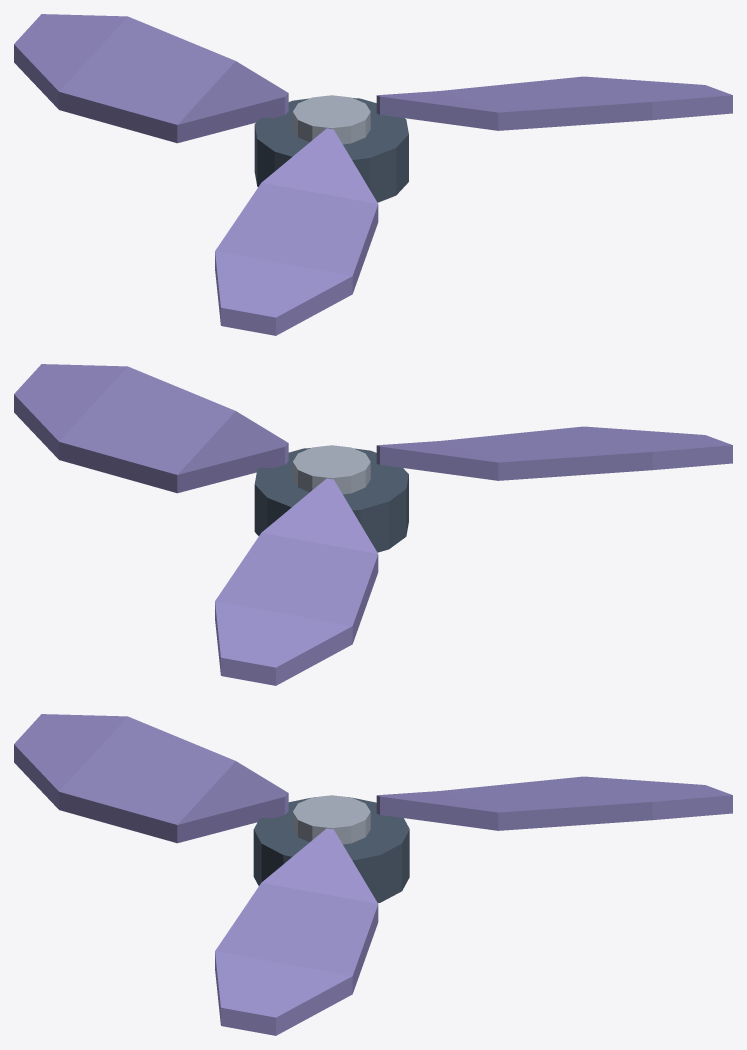
Rendered from prop-sport.glb.
3 renders of one model, top to bottom at view 1: azimuth 30°, elevation 25°; view 2: azimuth 150°, elevation 25°; view 3: azimuth 270°, elevation 25°, orthographic.
Parts seen in each view (by area): view 1: 002_pitched_aerofoil, 001_pitched_aerofoil, 000_pitched_aerofoil, 003_center_hub, 004_hub_lock; view 2: 000_pitched_aerofoil, 002_pitched_aerofoil, 001_pitched_aerofoil, 003_center_hub, 004_hub_lock; view 3: 001_pitched_aerofoil, 000_pitched_aerofoil, 002_pitched_aerofoil, 003_center_hub, 004_hub_lock.
Boxes of the visible parts, box(x1,y1,x2,y2) form: 002_pitched_aerofoil: box(14, 14, 288, 143); 001_pitched_aerofoil: box(215, 128, 378, 335); 000_pitched_aerofoil: box(376, 76, 732, 130); 003_center_hub: box(254, 98, 408, 202); 004_hub_lock: box(292, 95, 370, 144); 000_pitched_aerofoil: box(14, 364, 288, 493); 002_pitched_aerofoil: box(215, 478, 378, 685); 001_pitched_aerofoil: box(376, 426, 732, 480); 003_center_hub: box(254, 448, 408, 552); 004_hub_lock: box(292, 445, 370, 494); 001_pitched_aerofoil: box(14, 714, 288, 843); 000_pitched_aerofoil: box(215, 828, 378, 1035); 002_pitched_aerofoil: box(376, 776, 732, 830); 003_center_hub: box(253, 797, 409, 903); 004_hub_lock: box(292, 795, 370, 844).
Bounding box in the file's own units: 1.51 × 0.171 × 1.57.
